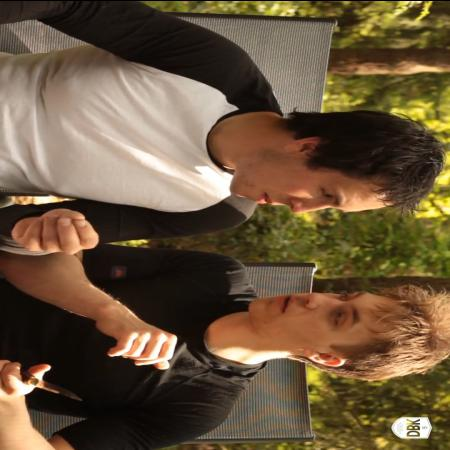long weapon: (1, 357, 97, 403)
